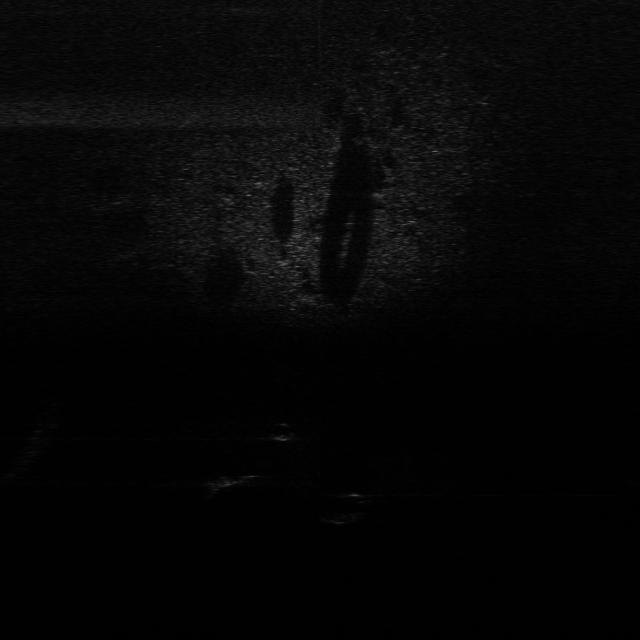ball: (262, 420, 297, 442)
square cage: (187, 468, 258, 492)
tyre: (310, 491, 370, 524)
